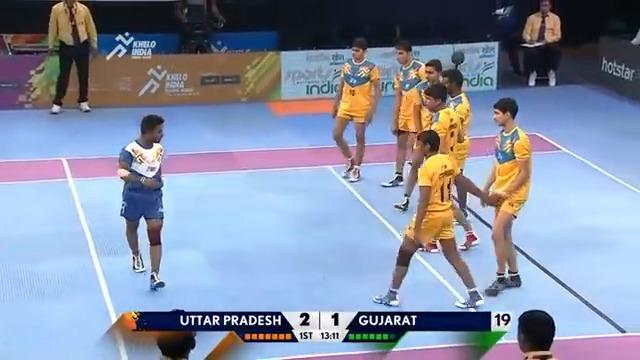Player: (372, 129, 484, 309), (480, 96, 532, 296), (392, 58, 444, 210), (330, 37, 381, 182), (380, 40, 427, 187), (435, 68, 476, 173)
Raider: (116, 113, 166, 290)
referee: (46, 0, 99, 113), (519, 0, 562, 86), (487, 1, 525, 75)
